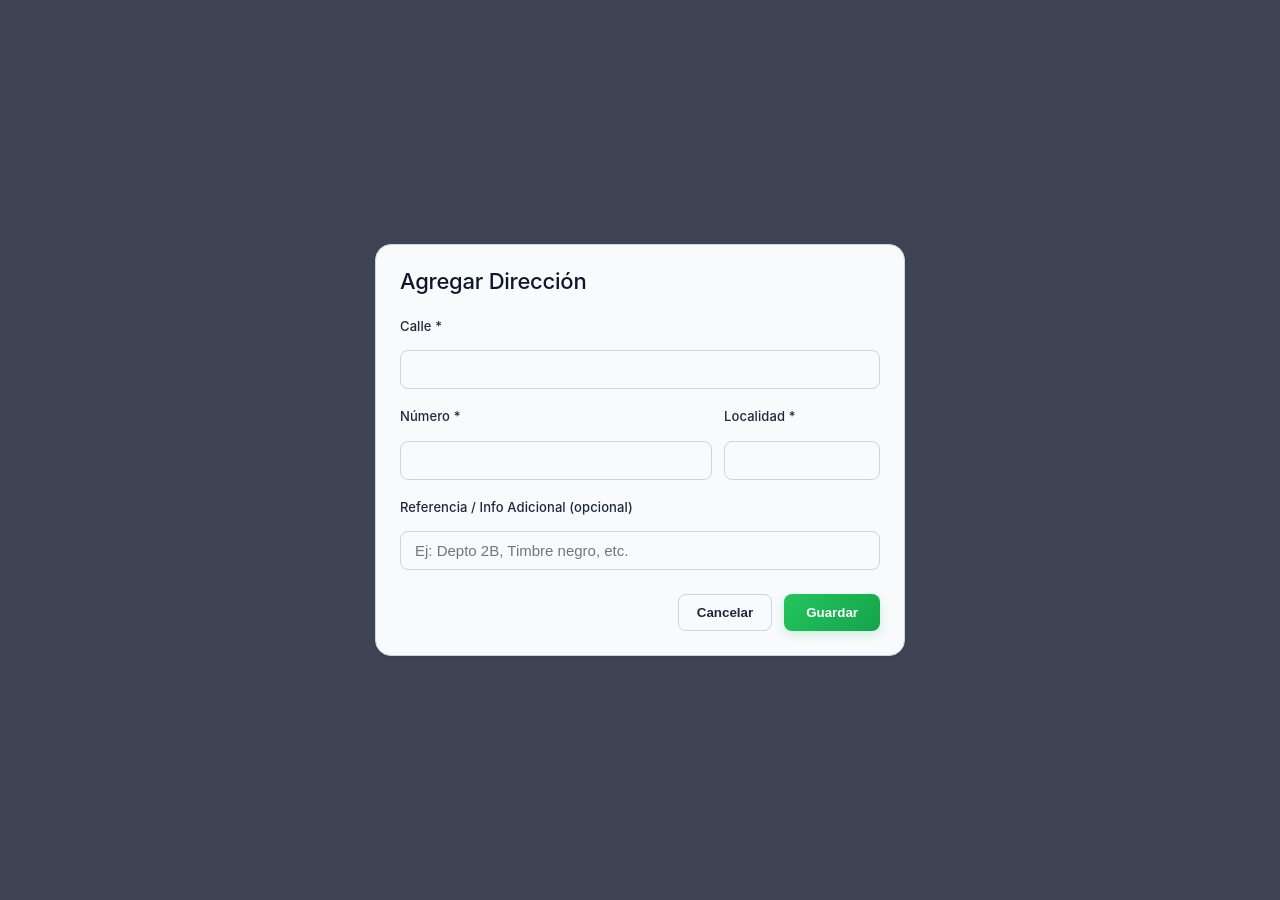
AddressForm › should display validation errors for required fields on submit
The width and height of the screenshot is (1280, 900).
Click the button "Guardar": (832, 612) [784,594,880,631]
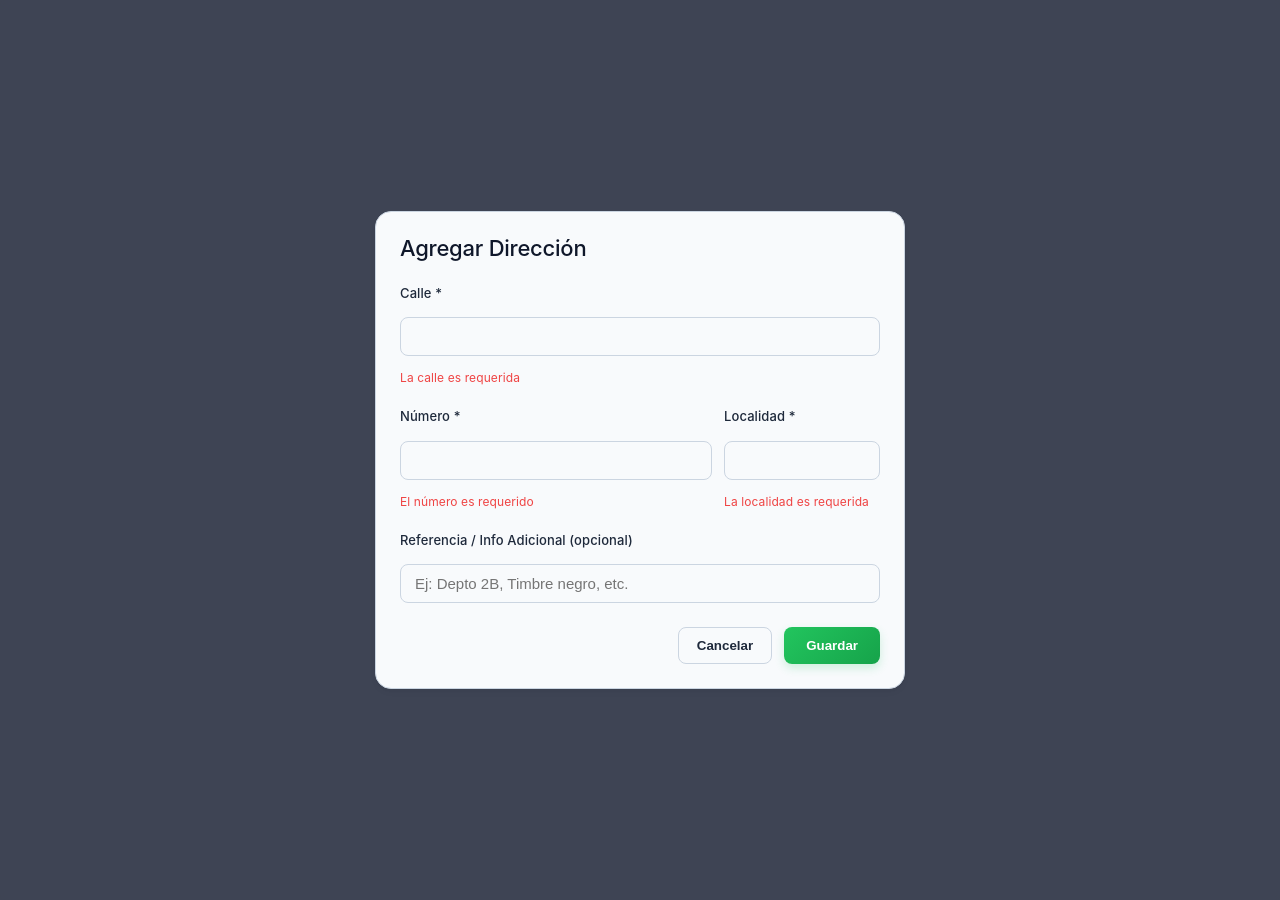
Check: the text "La calle es requerida" is shown, box [400,370,520,385]
Check: the text "El número es requerido" is shown, box [400,494,534,509]
Check: the text "La localidad es requerida" is shown, box [724,490,880,513]
